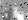person: (18, 8, 25, 20), (4, 12, 11, 20), (14, 8, 19, 19)
